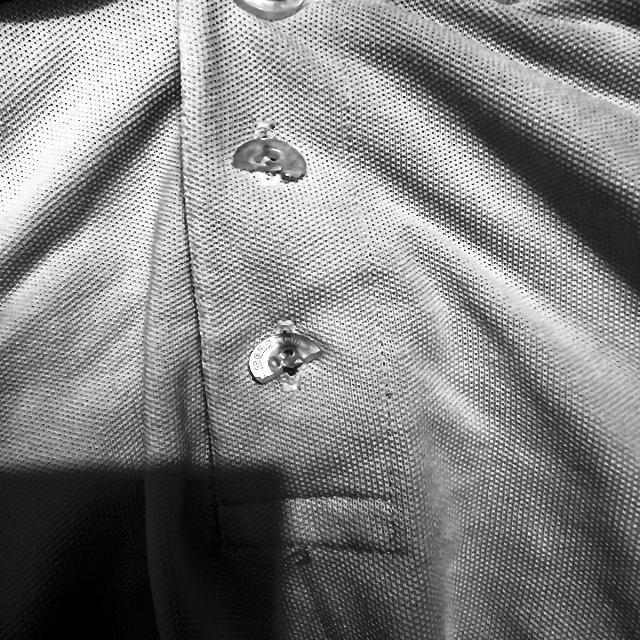Broken_button: (237, 316, 322, 396), (232, 122, 318, 190)
